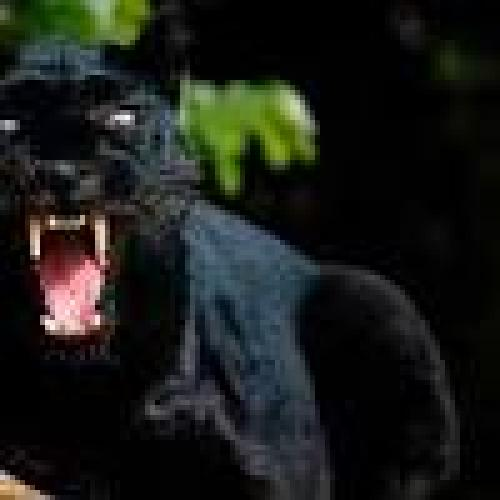panther-endangered: (0, 24, 457, 500)
